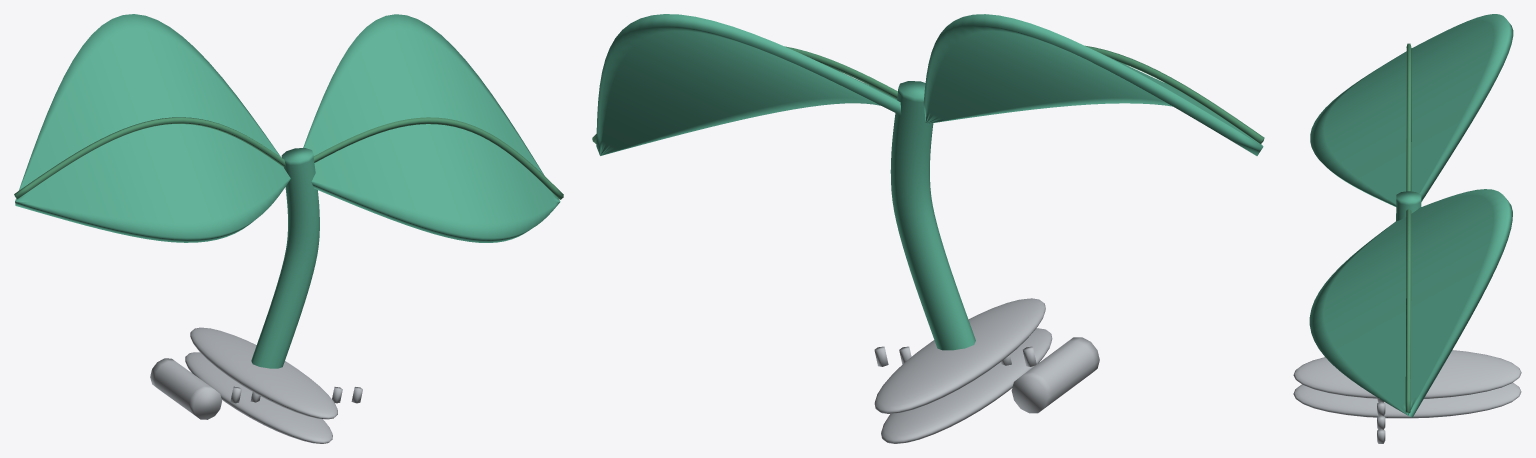
The model's file is Feminine-twin-braids-pashmina251-sprout.glb.
The picture shows the model from 3 angles, left to right: view 1: azimuth 30°, elevation 25°; view 2: azimuth 150°, elevation 25°; view 3: azimuth 270°, elevation 25°; orthographic projection. The views are drawn at different scales.
Visible parts, largest first — view 1: 226 extra / Accessory / mint226, 226 extra / Sprout / clip silver235, 226 extra / Sprout / leaf vein235; view 2: 226 extra / Accessory / mint226, 226 extra / Sprout / clip silver235, 226 extra / Sprout / leaf vein235; view 3: 226 extra / Accessory / mint226, 226 extra / Sprout / clip silver235, 226 extra / Sprout / leaf vein235.
Part boxes in pixels (<box>): 226 extra / Accessory / mint226: <box>15,14,560,368</box>; 226 extra / Sprout / clip silver235: <box>150,327,362,443</box>; 226 extra / Sprout / leaf vein235: <box>14,117,563,199</box>; 226 extra / Accessory / mint226: <box>596,14,1263,350</box>; 226 extra / Sprout / clip silver235: <box>874,298,1099,443</box>; 226 extra / Sprout / leaf vein235: <box>592,45,1264,144</box>; 226 extra / Accessory / mint226: <box>1309,14,1513,417</box>; 226 extra / Sprout / clip silver235: <box>1293,350,1521,443</box>; 226 extra / Sprout / leaf vein235: <box>1405,43,1411,412</box>.
Size of the model in its own units: 0.2646 by 0.1736 by 0.104.
